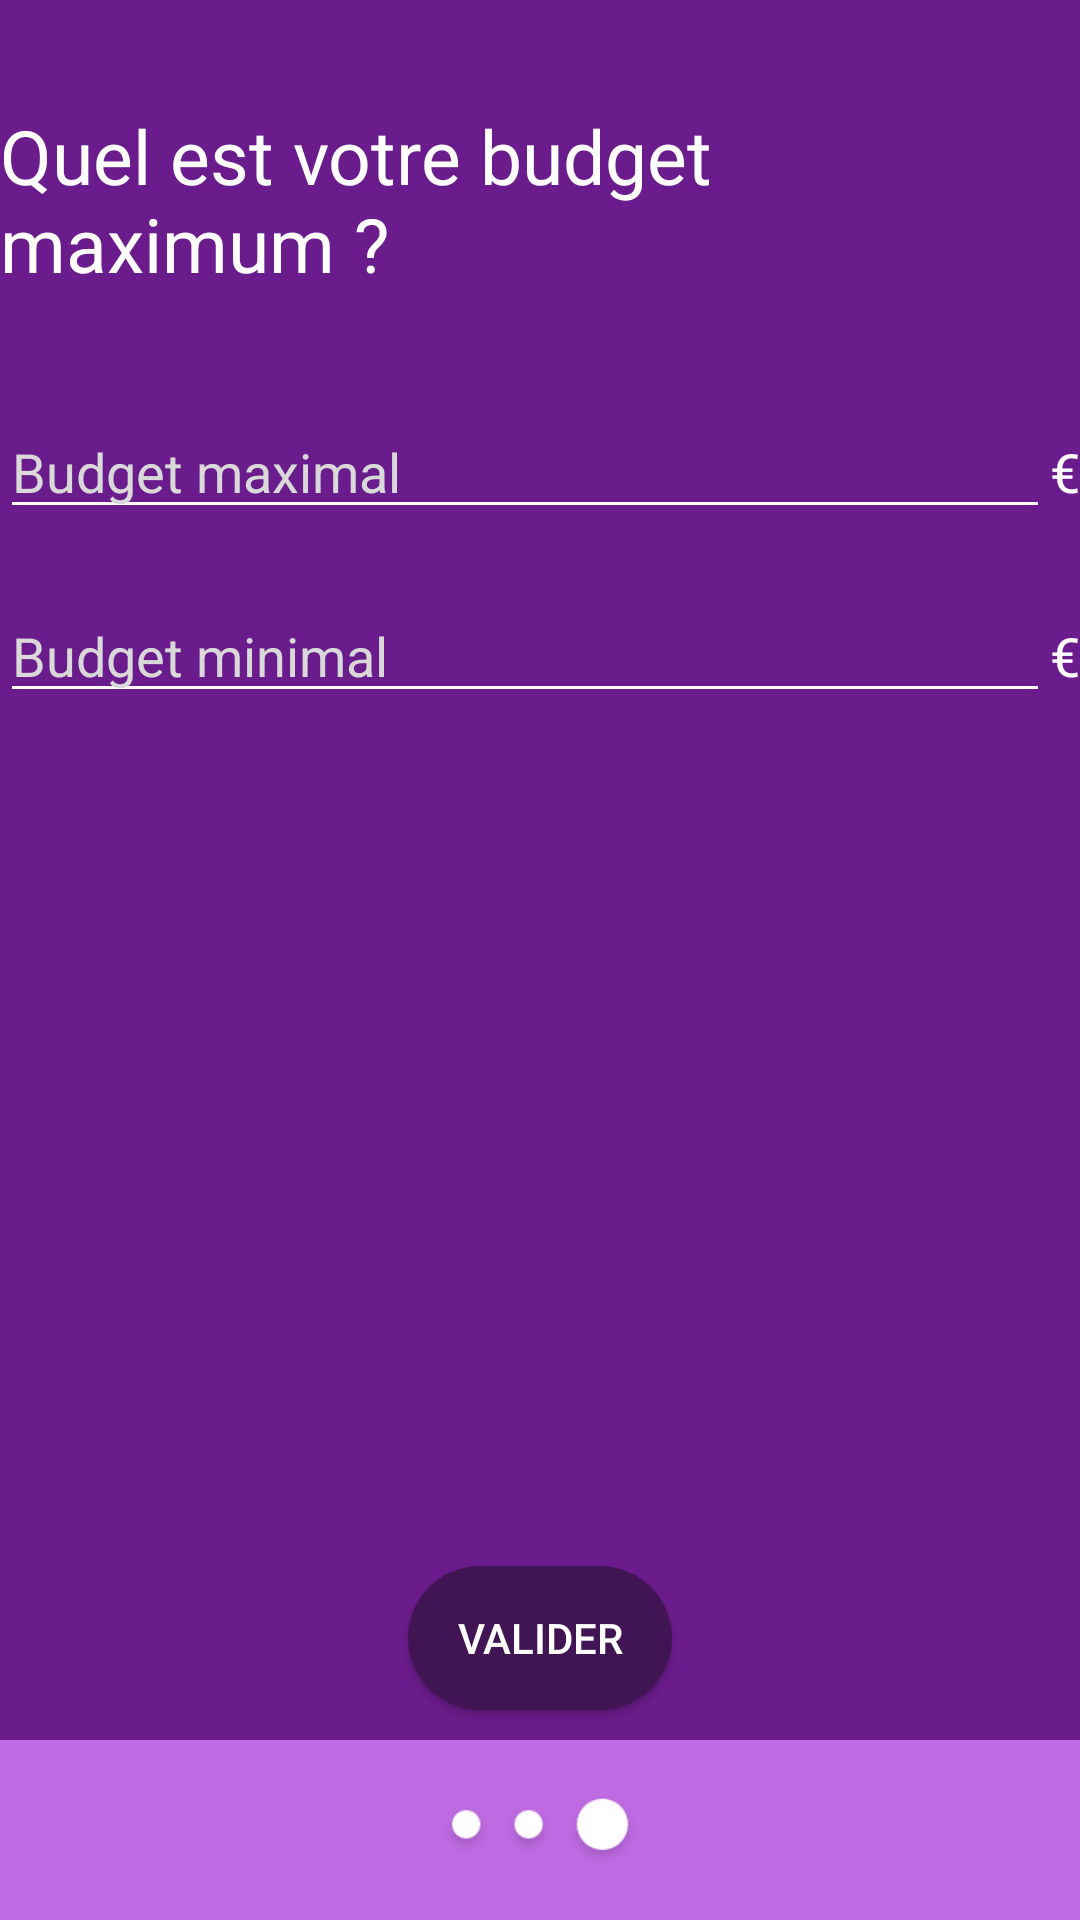

Where icons sit on this 1080×1920 app screen, as {"x1": x1, "y1": y1, "x2": x2, "y2": y2}:
dot: {"x1": 452, "y1": 1798, "x2": 628, "y2": 1852}
